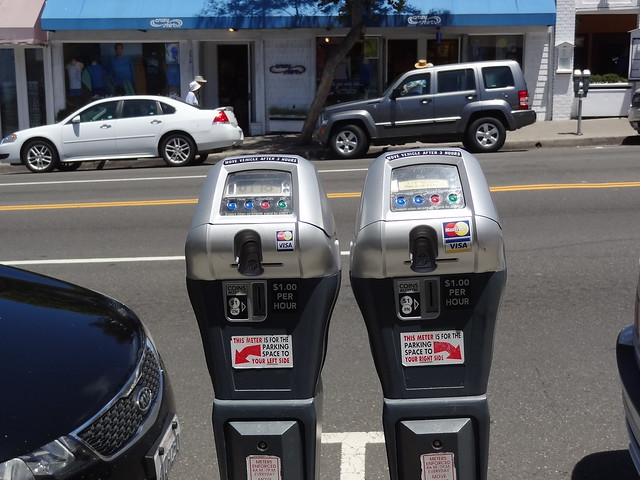car: (318, 60, 537, 158), (1, 94, 245, 173)
